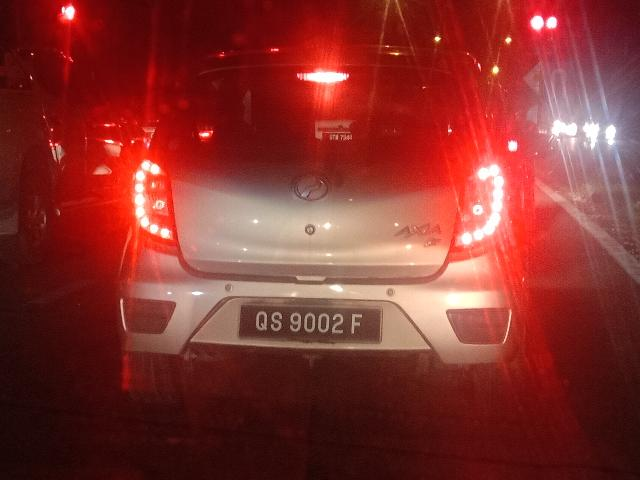License_Plate: (239, 305, 383, 346)
car: (100, 40, 544, 413)
